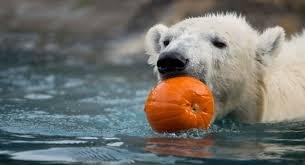bear: (145, 12, 305, 123)
